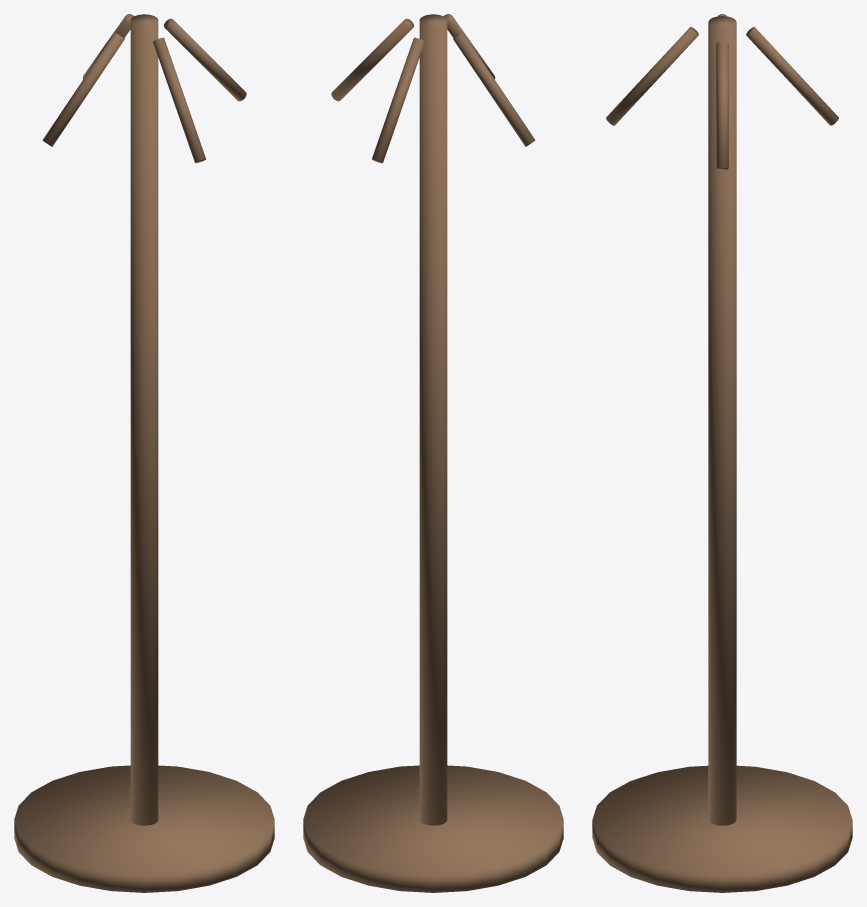
The model's file is coat_rack_normal.glb.
3 renders of one model, left to right at view 1: azimuth 30°, elevation 25°; view 2: azimuth 150°, elevation 25°; view 3: azimuth 270°, elevation 25°, orthographic.
Parts seen in each view (by area): view 1: BaseDisc, MainPole, Hook_2, Hook_3, Hook_0; view 2: BaseDisc, MainPole, Hook_2, Hook_1, Hook_0; view 3: BaseDisc, MainPole, Hook_0, Hook_1, Hook_3.
Boxes of the visible parts, box(x1,y1,x2,y2) form: BaseDisc: box(14, 765, 274, 892); MainPole: box(130, 14, 158, 825); Hook_2: box(42, 32, 124, 146); Hook_3: box(153, 37, 205, 163); Hook_0: box(164, 18, 246, 101); BaseDisc: box(303, 765, 563, 892); MainPole: box(419, 14, 447, 825); Hook_2: box(453, 32, 535, 146); Hook_1: box(372, 37, 424, 163); Hook_0: box(331, 18, 413, 101); BaseDisc: box(592, 765, 852, 892); MainPole: box(708, 16, 736, 825); Hook_0: box(716, 41, 728, 170); Hook_1: box(746, 27, 838, 125); Hook_3: box(606, 27, 698, 125).
Size of the model in its own units: 0.52 by 1.8 by 0.52.
